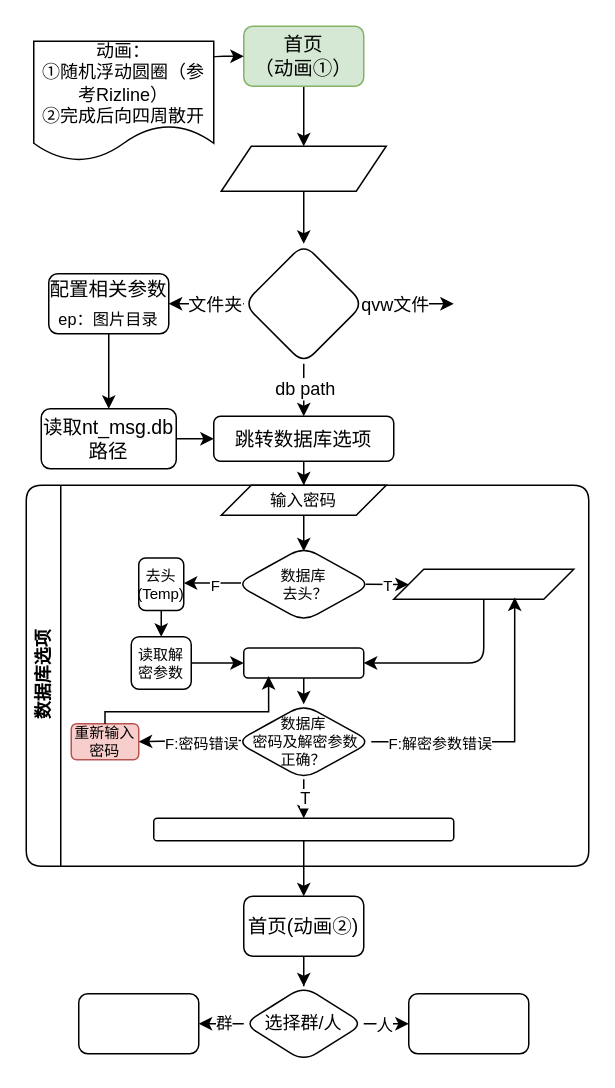
The diagram is 615 pixels wide and 1088 high, and some of its shapes have lost their labels. Each missing label, with the centre of its shape:
判断选择 的文件类型: point (303, 303)
尝试解密: point (303, 662)
要求用户提供 解密参数: point (483, 583)
读group和c2c表的40027列(统计群/QQ号): point (303, 829)
跳转 /c2c/ {c2c_uin}: point (468, 1023)
跳转 /group/ {group_id}: point (138, 1023)
选择文件: point (303, 168)
